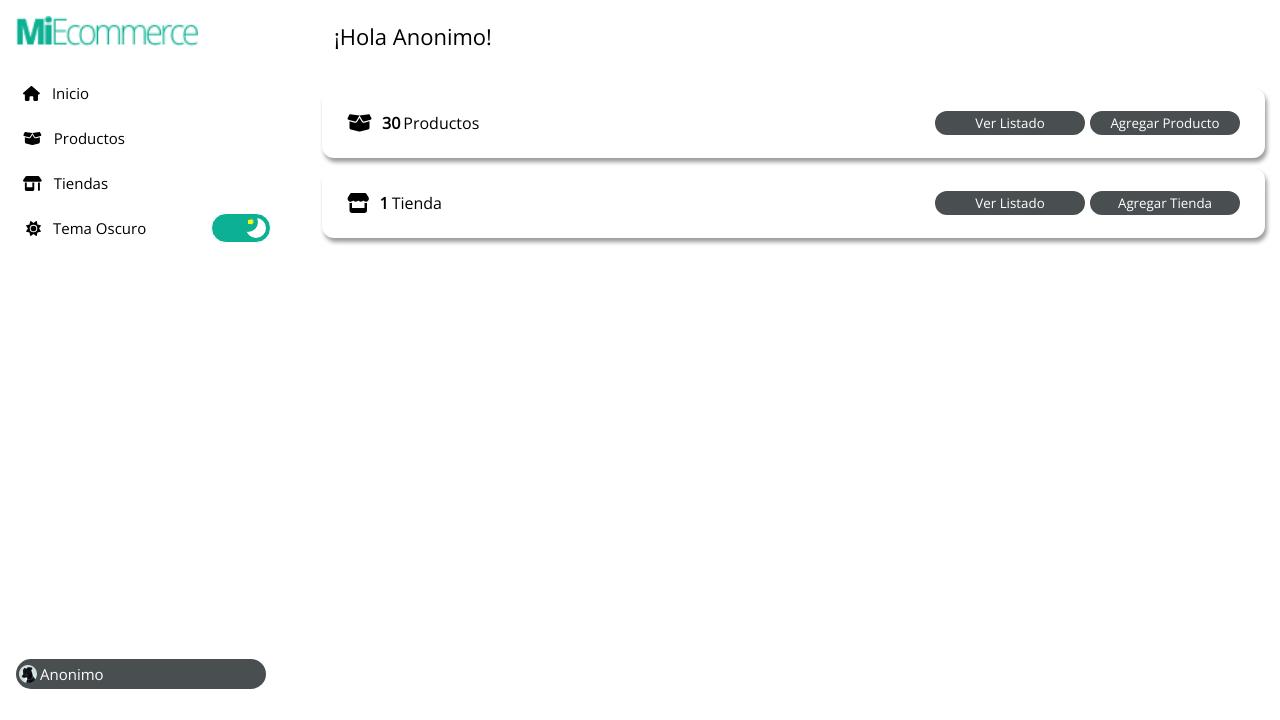
Test: Testeo de toda la navegacion › Al dar click para acceder a la ruta stores debe aparecer la vista de error404
What coordinates should you click on to do the following:
click the link "Tiendas"
I would click on:
 (66, 183)
Its box is [23, 173, 108, 193].
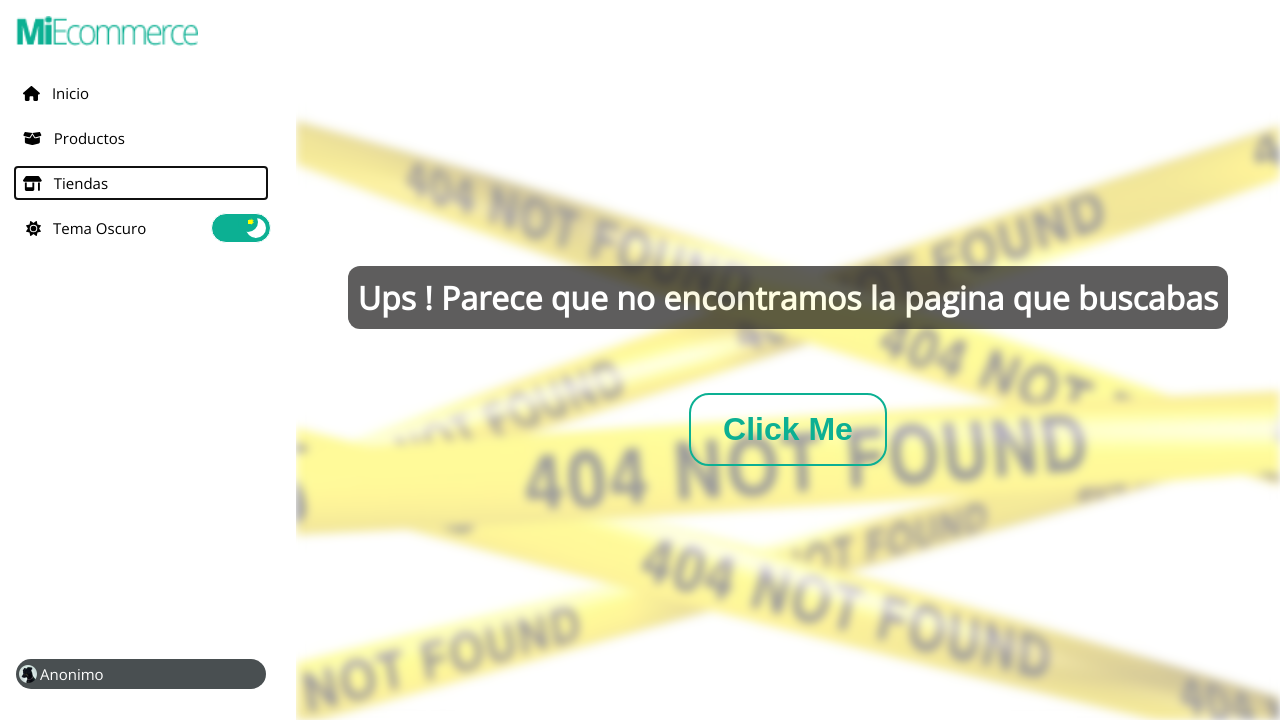
Check: the heading "Ups ! Parece que no encontramos la pagina que buscabas" is shown, box [358, 276, 1218, 318]
